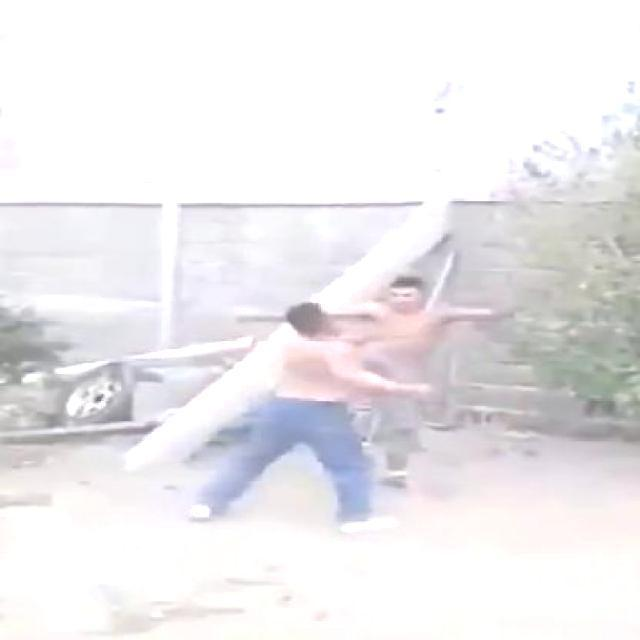fight: (234, 279, 452, 532)
